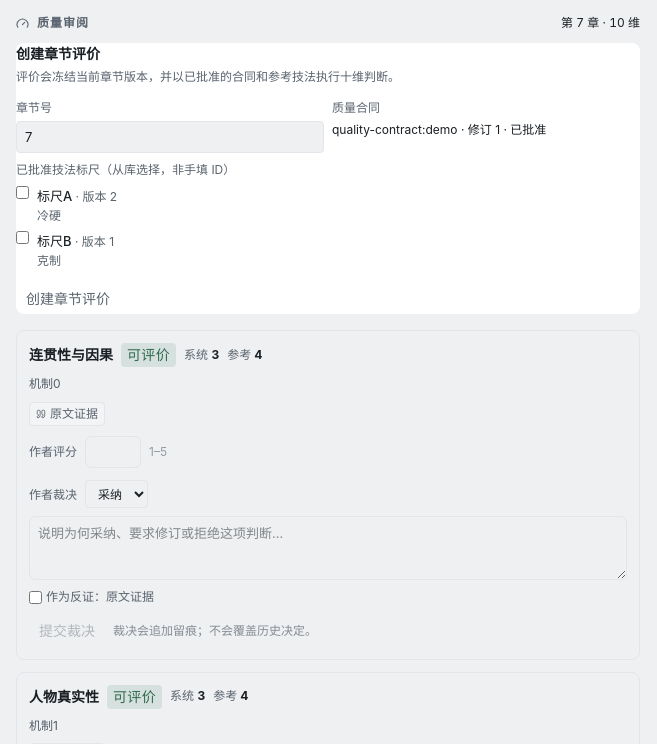
Test case: QualityReview 十维三轴审阅 › 创建评价失败时展示后端已脱敏的具体原因，便于作者修正输入后重试
The width and height of the screenshot is (657, 744).
Check: the text "连贯性与因果" is shown, box [29,344,113,366]
Check: the text "quality-contract:demo · 修订 1 · 已批准" is shown, box [332,122,546,138]
Click the button "创建章节评价": click(68, 298) [16,282,120,314]
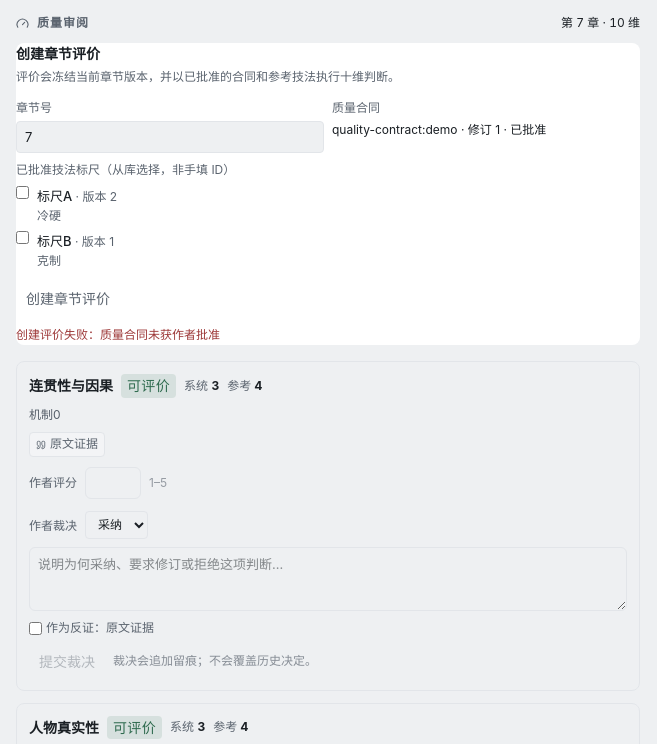
Check: the message shows "质量合同未获作者批准", box [16,327,220,342]
